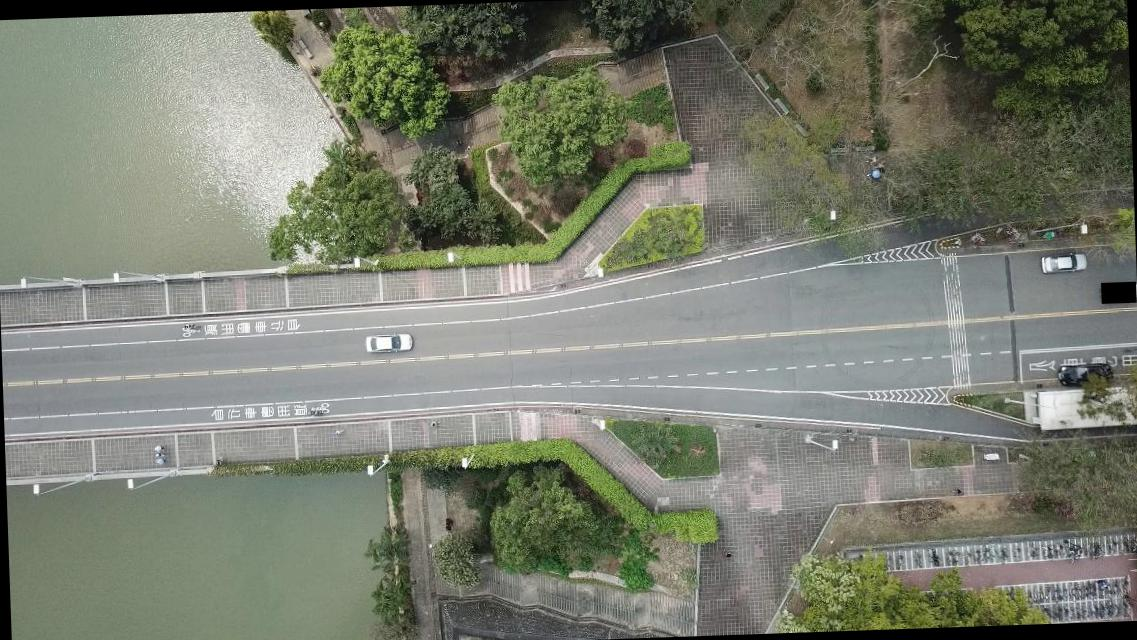vehicle: (1056, 362, 1112, 386), (1040, 250, 1087, 274), (364, 332, 413, 354)
